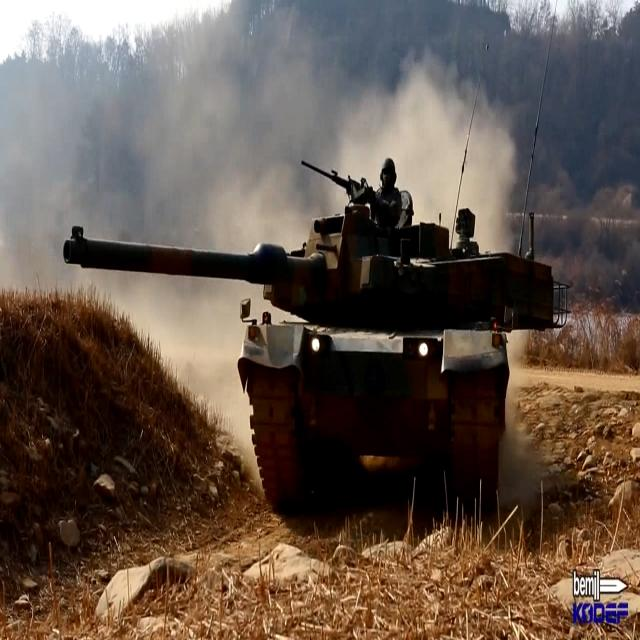korea tank: (63, 153, 571, 522)
